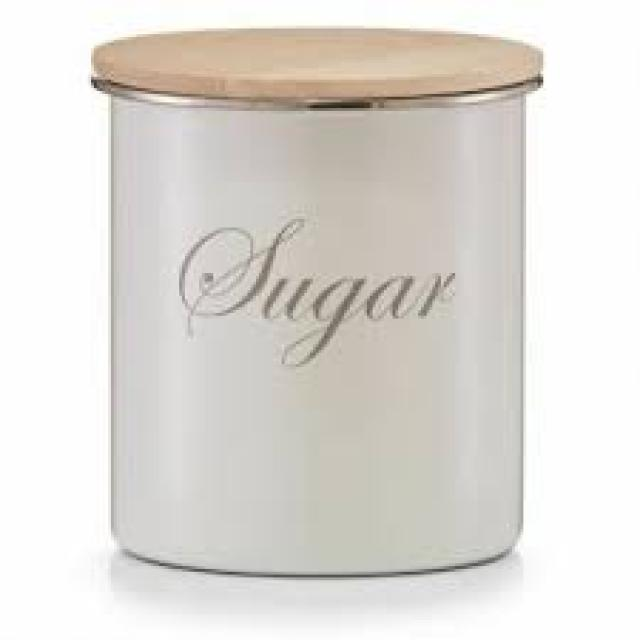metal: (91, 77, 540, 566)
